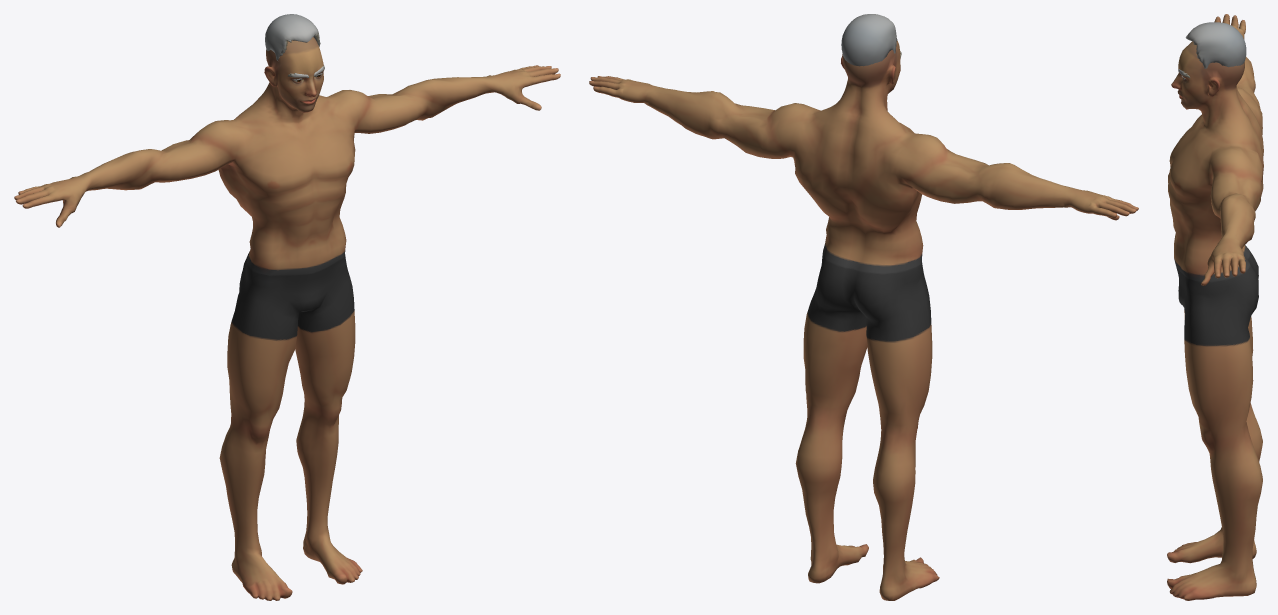
The model's file is character-male-b.glb.
3 views of the same model, side by side, from view 1: azimuth 30°, elevation 25°; view 2: azimuth 150°, elevation 25°; view 3: azimuth 270°, elevation 25° (orthographic).
Visible parts, largest first — view 1: crowd-body; view 2: crowd-body; view 3: crowd-body.
Boxes of the visible parts, left/top/right/bottom form: crowd-body: left=14, top=14, right=560, bottom=600; crowd-body: left=589, top=14, right=1138, bottom=600; crowd-body: left=1167, top=14, right=1263, bottom=600.
Bounding box in the file's own units: 1.94 × 1.91 × 0.3039.
4 materials, 4 textured.
